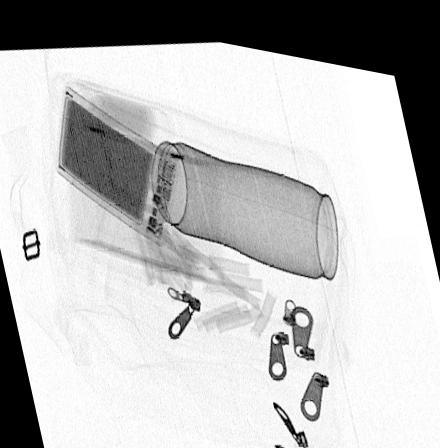Powerbank: (56, 80, 181, 238)
